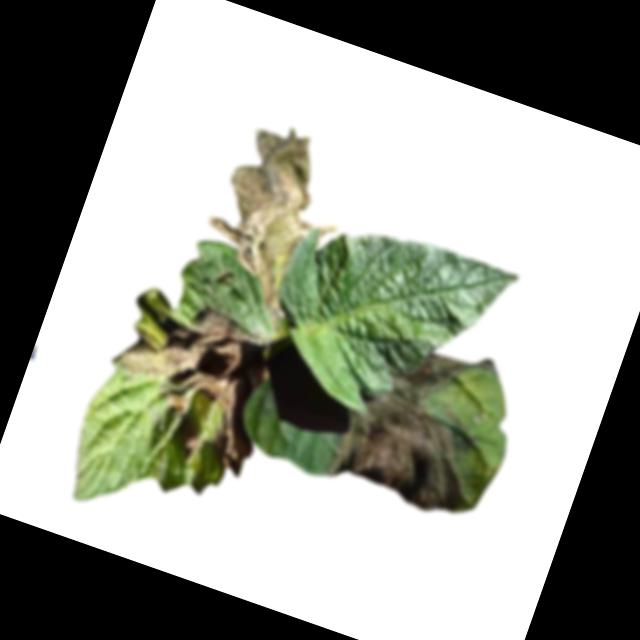Late_blight: (186, 110, 368, 323), (325, 331, 519, 527), (112, 281, 262, 410), (204, 345, 284, 478), (172, 420, 206, 457), (159, 389, 189, 416)
healthy: (246, 200, 519, 446)
